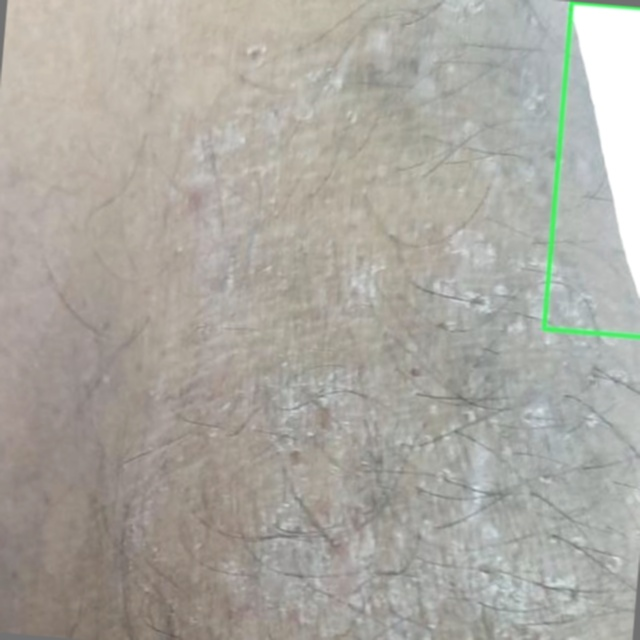Contact Dermatitis: (543, 2, 639, 338)
